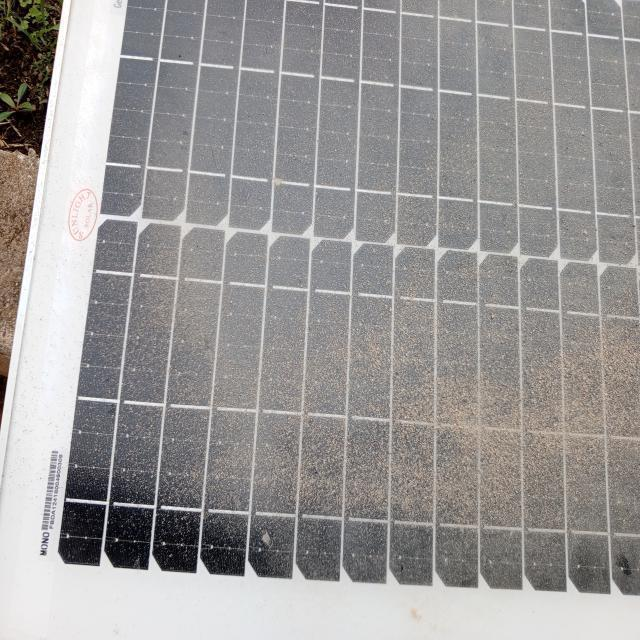Surface Contaminant: (109, 10, 634, 616)
